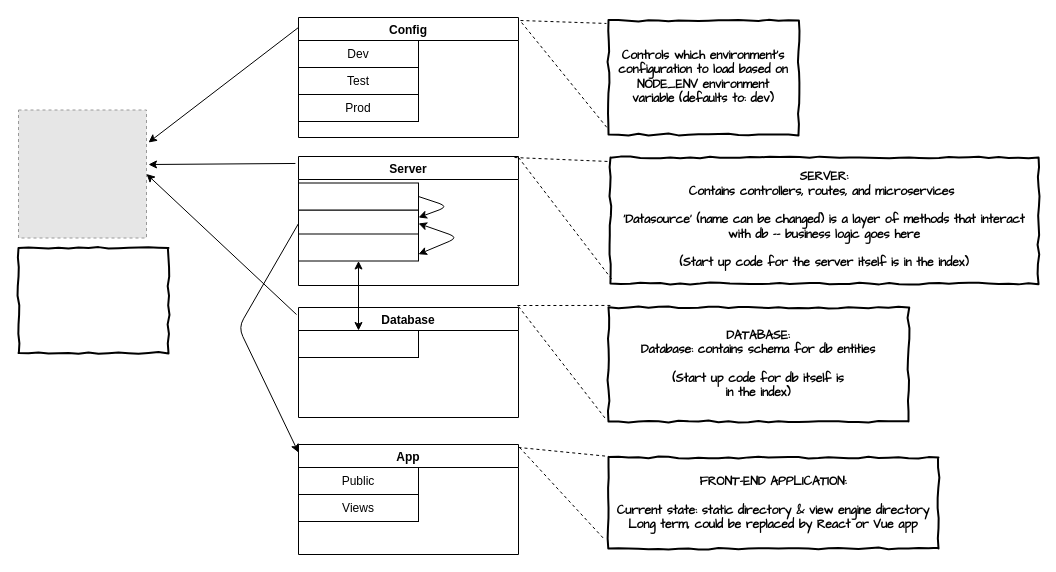
Some shapes in this 1056 by 572 pixel diagram are drawn without their labels. Grey dashed boxes stand in for pictures. Here are the shapes that lost their labels. From the top down, the centre of each, then its label:
At point 358,196: "Routes".
At point 358,223: "Controllers".
At point 358,247: "Models".
At point 93,300: "Project index loads config, starts server, starts database connection".
At point 358,344: "Schema".
